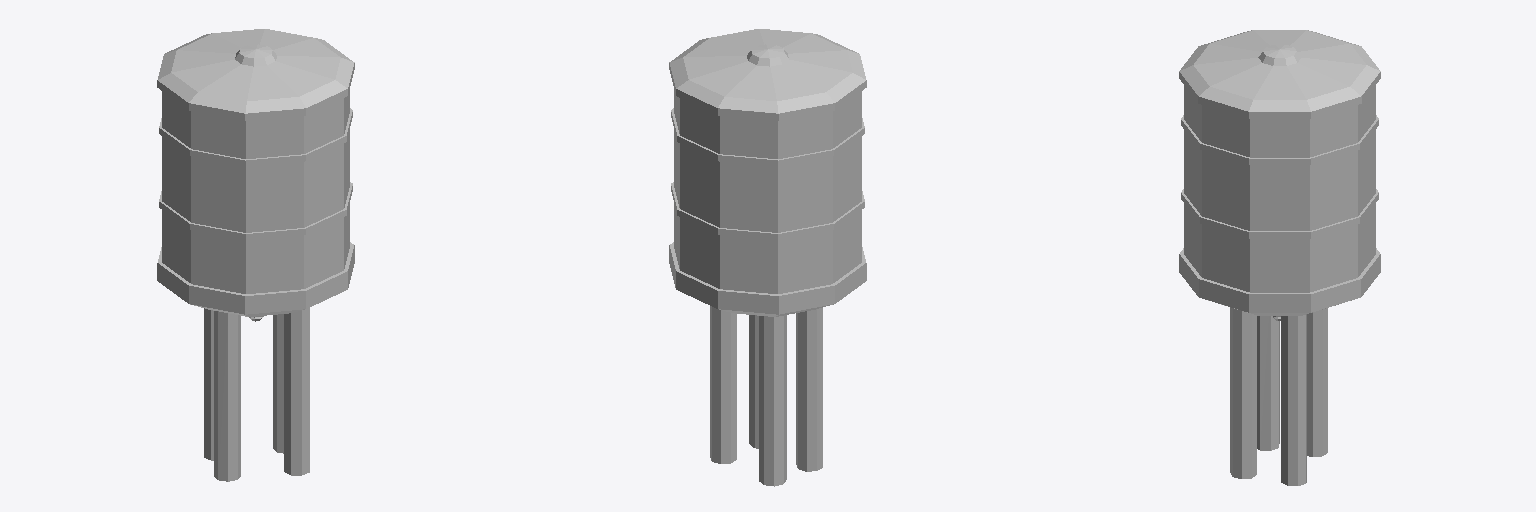
File: textured_tank.obj
The picture shows the model from 3 angles: view 1: azimuth 30°, elevation 25°; view 2: azimuth 150°, elevation 25°; view 3: azimuth 270°, elevation 25°; orthographic projection.
Parts seen in each view (by area): view 1: pCylinder6; view 2: pCylinder6; view 3: pCylinder6.
Part boxes in pixels (left/top/right/bottom): pCylinder6: left=157, top=29, right=354, bottom=481; pCylinder6: left=669, top=29, right=866, bottom=486; pCylinder6: left=1179, top=30, right=1380, bottom=485.
Size of the model in its own units: 4.55 by 10.83 by 4.79.